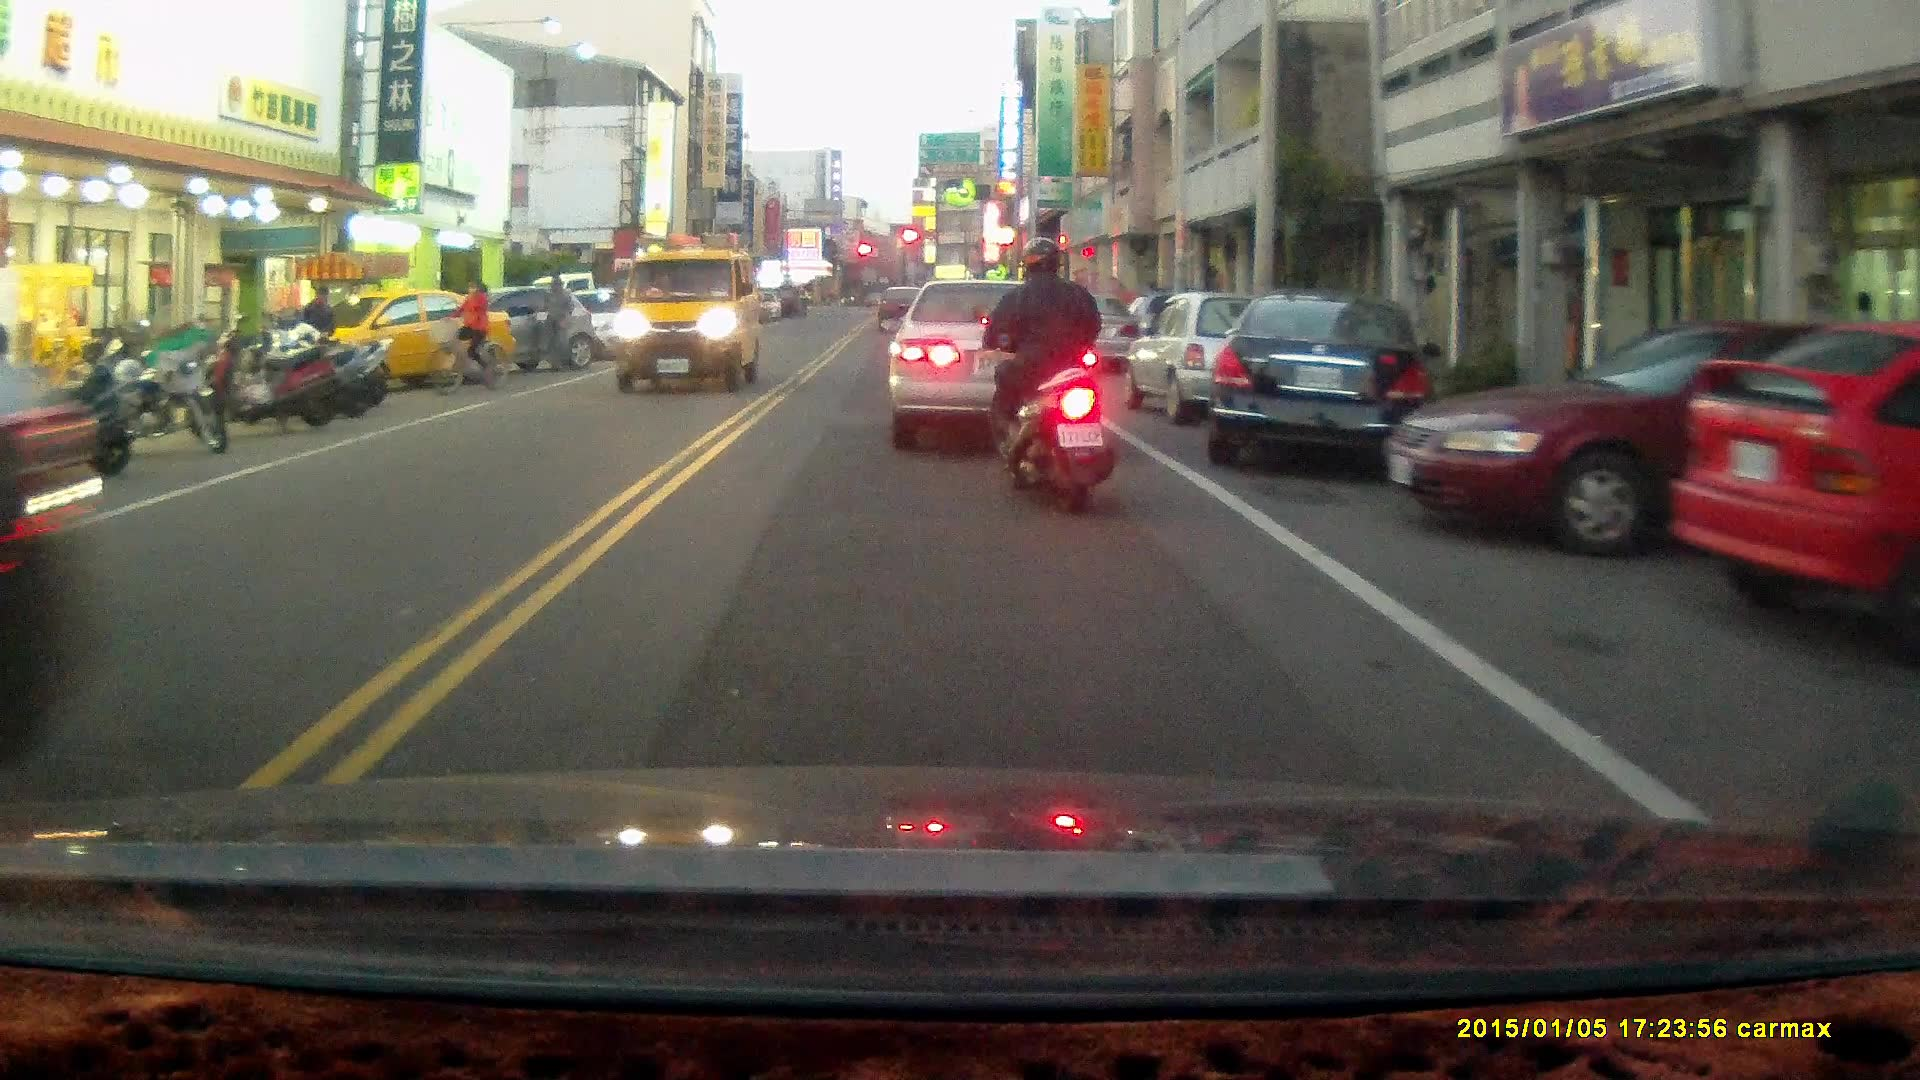pedestrian: (539, 273, 575, 373), (298, 283, 336, 372)
rider: (969, 232, 1121, 519), (424, 278, 509, 400)
vehicle: (1398, 314, 1875, 562), (1675, 319, 1920, 648), (1204, 291, 1440, 472), (892, 270, 1104, 439), (1118, 290, 1314, 430), (613, 240, 760, 394), (327, 288, 519, 387)
